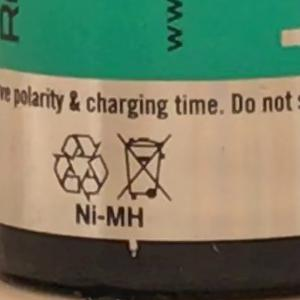NI-MH: (66, 196, 153, 235)
